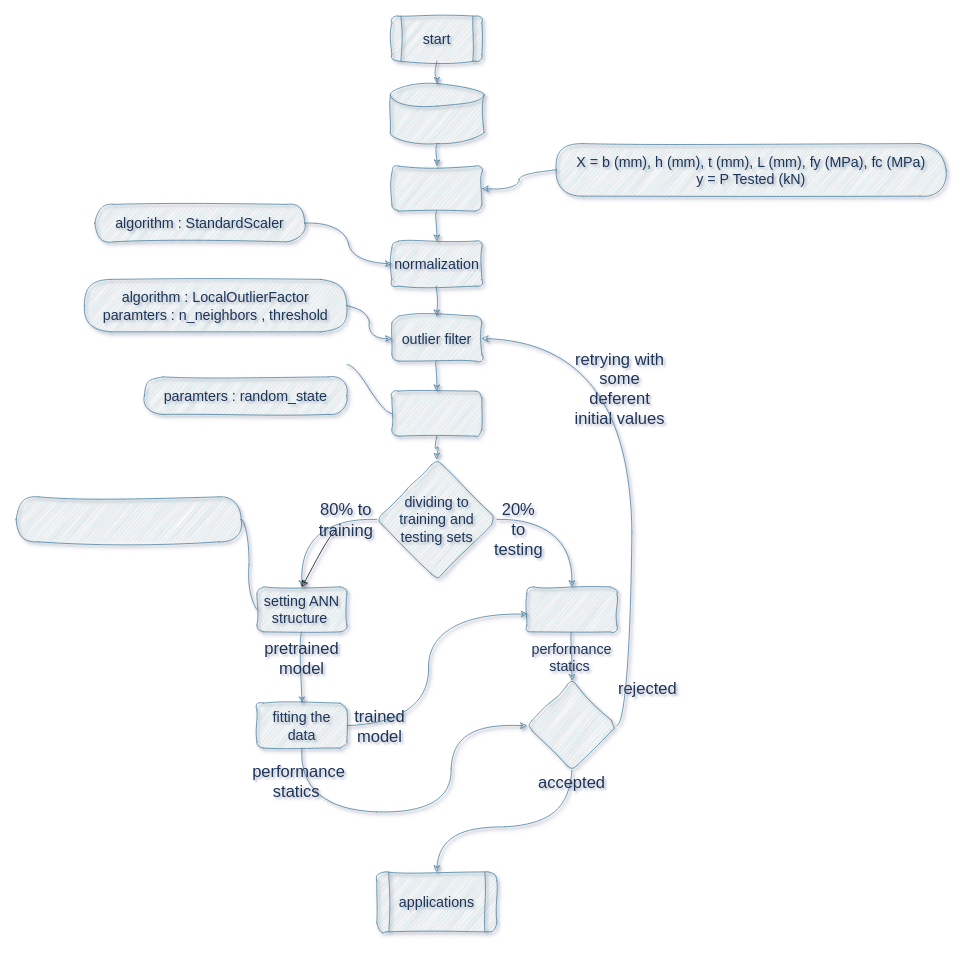
Image size: 968x955. Some labels were removed from this diagram. Each missing label, with the centre of its shape:
data collection: (438,114)
decision making: (572,726)
features selection: (437,189)
number of lyres and the size and the activation of each layer: (129,520)
shuffling: (437,414)
testing the mode: (572,610)
